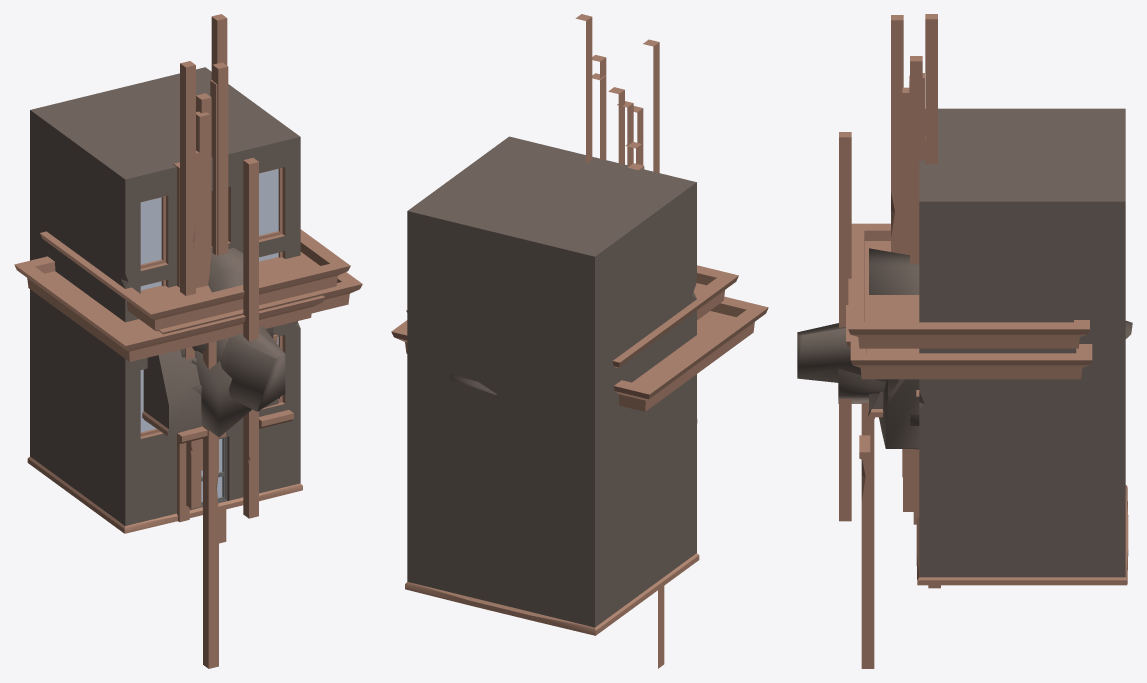
Rendered from rootnode_003_chunks.glb.
The picture shows the model from 3 angles, left to right: view 1: azimuth 30°, elevation 25°; view 2: azimuth 150°, elevation 25°; view 3: azimuth 270°, elevation 25°; orthographic projection. The views are drawn at different scales.
Visible parts, largest first — view 1: BrownBuilding.001_cell.025, BrownBuilding.001_cell.026, BrownBuilding.001_cell.022, BrownBuilding.001_cell.011, BrownBuilding.001_cell.006, BrownBuilding.001_cell.007, BrownBuilding.001_cell.028, BrownBuilding.001_cell.016, BrownBuilding.001_cell.029, BrownBuilding.001_cell.030, BrownBuilding.001_cell.013, BrownBuilding.001_cell.002 (+4 smaller); view 2: BrownBuilding.001_cell.025, BrownBuilding.001_cell.022, BrownBuilding.001_cell.026, BrownBuilding.001_cell.012, BrownBuilding.001_cell.028, BrownBuilding.001_cell.019, BrownBuilding.001_cell.015; view 3: BrownBuilding.001_cell.025, BrownBuilding.001_cell.026, BrownBuilding.001_cell.030, BrownBuilding.001_cell.011, BrownBuilding.001_cell.028, BrownBuilding.001_cell.007, BrownBuilding.001_cell.029, BrownBuilding.001_cell.006, BrownBuilding.001_cell.010, BrownBuilding.001_cell.012, BrownBuilding.001_cell.013, BrownBuilding.001_cell.016 (+1 smaller).
Part boxes in pixels (x1,y1,x2,y2): BrownBuilding.001_cell.025: (27, 67, 302, 533); BrownBuilding.001_cell.026: (40, 229, 350, 668); BrownBuilding.001_cell.022: (14, 256, 324, 428); BrownBuilding.001_cell.011: (243, 157, 258, 518); BrownBuilding.001_cell.006: (142, 350, 278, 436); BrownBuilding.001_cell.007: (220, 326, 285, 411); BrownBuilding.001_cell.028: (180, 61, 201, 395); BrownBuilding.001_cell.016: (195, 351, 251, 437); BrownBuilding.001_cell.029: (212, 62, 228, 255); BrownBuilding.001_cell.030: (134, 272, 362, 443); BrownBuilding.001_cell.013: (191, 111, 209, 470); BrownBuilding.001_cell.002: (186, 150, 273, 508); BrownBuilding.001_cell.025: (405, 136, 699, 635); BrownBuilding.001_cell.022: (614, 296, 768, 411); BrownBuilding.001_cell.026: (406, 265, 738, 668); BrownBuilding.001_cell.012: (575, 14, 592, 163); BrownBuilding.001_cell.028: (643, 39, 659, 172); BrownBuilding.001_cell.019: (592, 73, 606, 160); BrownBuilding.001_cell.015: (608, 87, 624, 164); BrownBuilding.001_cell.025: (913, 108, 1128, 585); BrownBuilding.001_cell.026: (848, 223, 1089, 668); BrownBuilding.001_cell.030: (850, 335, 1092, 418); BrownBuilding.001_cell.011: (839, 132, 851, 521); BrownBuilding.001_cell.028: (891, 15, 903, 253); BrownBuilding.001_cell.007: (797, 323, 887, 382); BrownBuilding.001_cell.029: (910, 56, 922, 263); BrownBuilding.001_cell.006: (879, 379, 919, 449); BrownBuilding.001_cell.010: (869, 248, 919, 410); BrownBuilding.001_cell.012: (910, 14, 937, 425); BrownBuilding.001_cell.013: (902, 87, 914, 477); BrownBuilding.001_cell.016: (838, 368, 885, 403).
Size of the model in its own units: 2.73 by 6.73 by 3.06.
